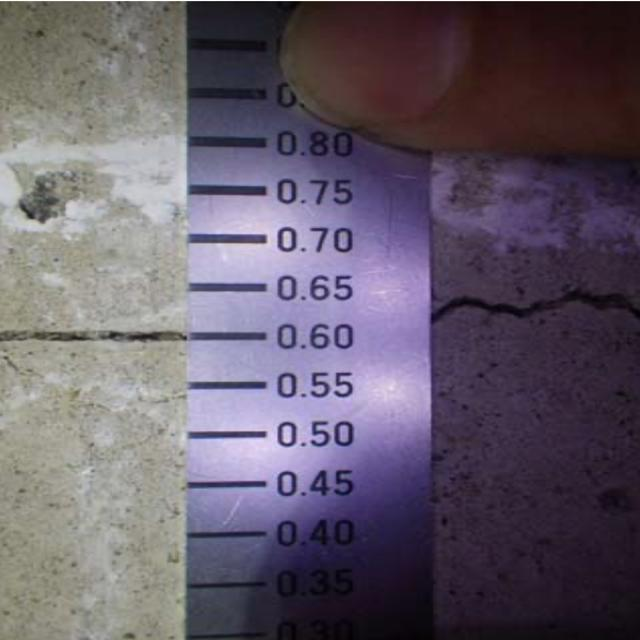crack: (426, 260, 637, 341), (4, 300, 187, 369)
